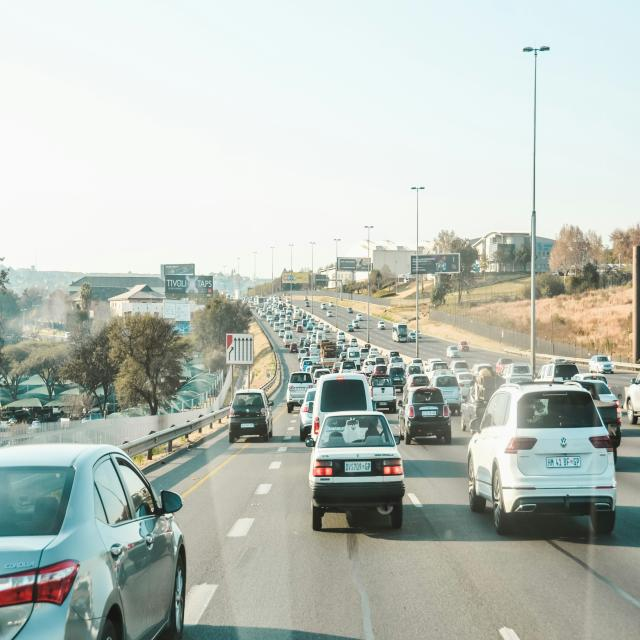Car: (0, 442, 187, 640), (467, 379, 617, 535), (307, 411, 405, 531), (398, 386, 452, 445), (228, 389, 274, 443), (625, 372, 640, 425), (589, 355, 614, 374), (378, 321, 385, 329)
Traffic-sign: (225, 332, 254, 364)
